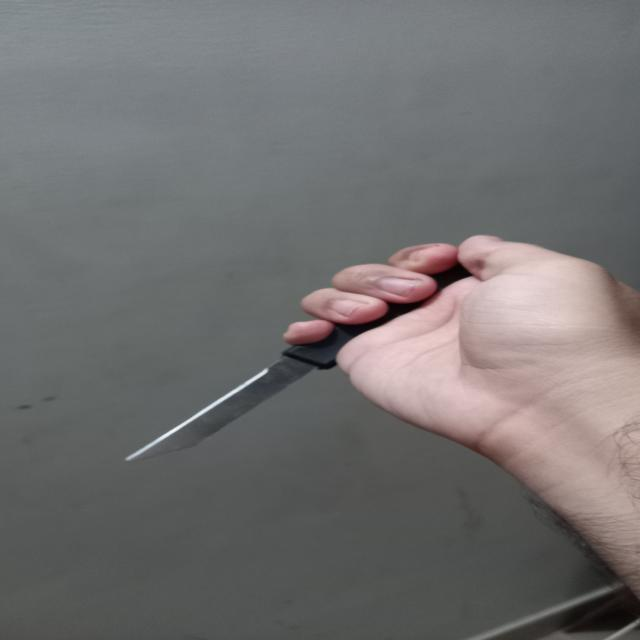weapon: (116, 248, 464, 481)
